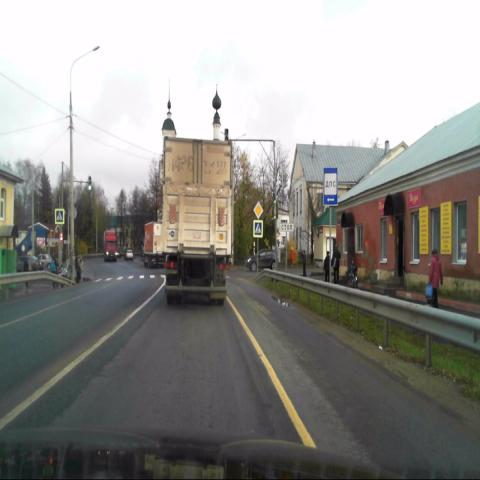7_12: (324, 167, 338, 205)
